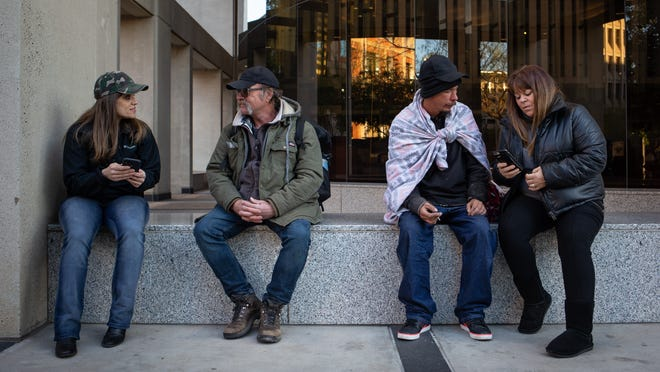without_mask: (232, 86, 262, 115), (116, 90, 143, 122), (437, 82, 459, 113), (513, 87, 536, 114)
